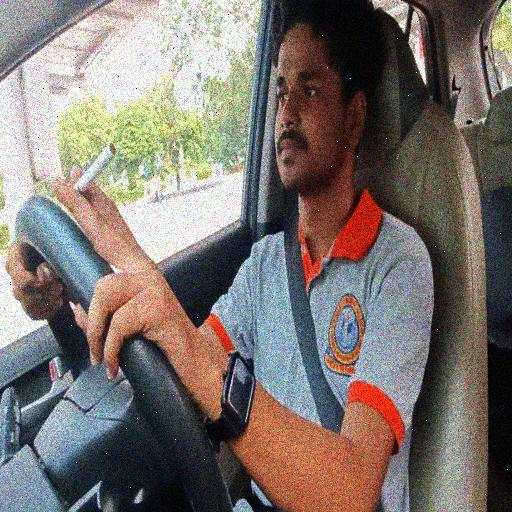Smoking: (11, 0, 435, 509)
